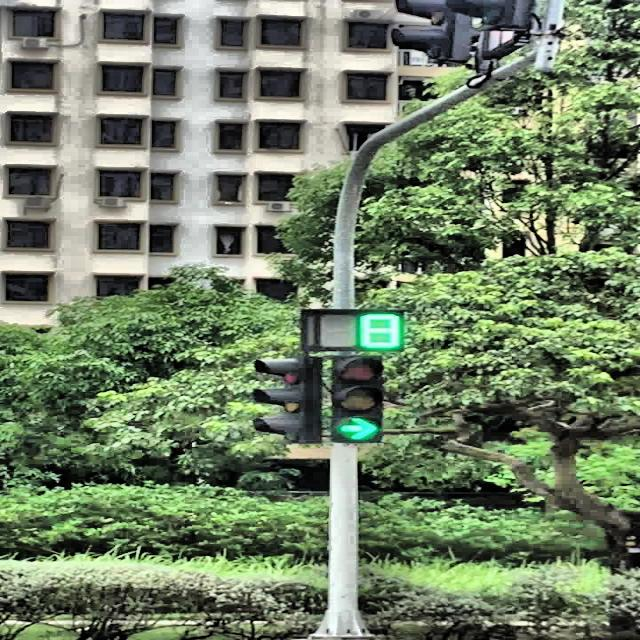green: (332, 356, 384, 444)
